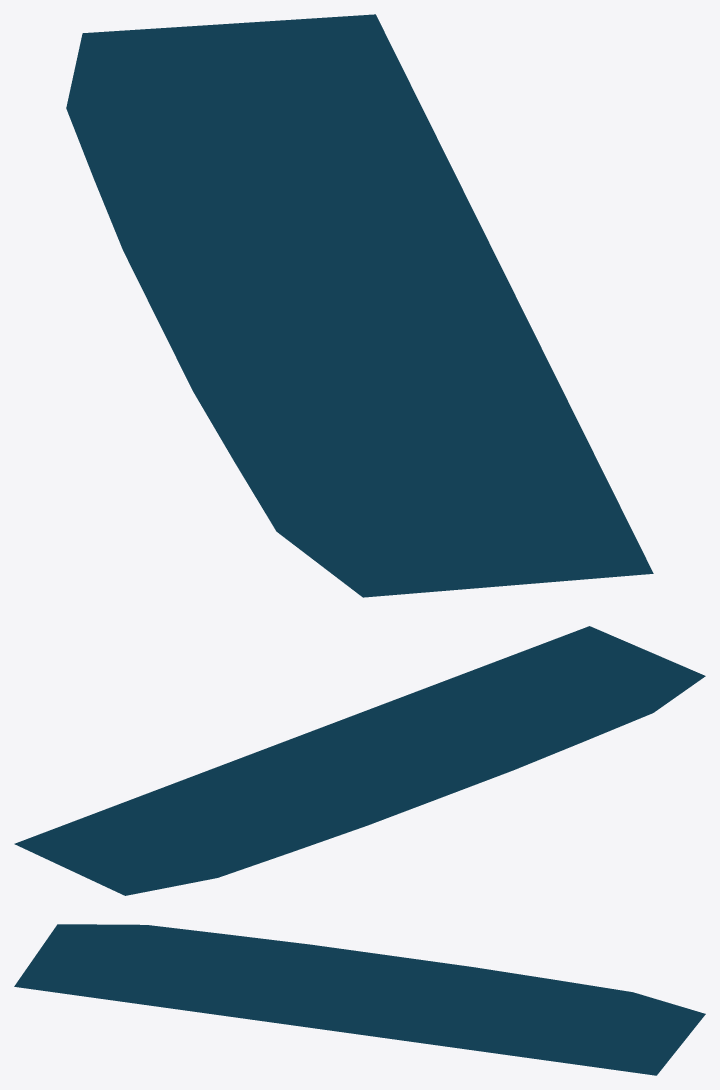
File: Coast Guard floor piece.FBX
The picture shows the model from 3 angles, top to bottom: view 1: azimuth 30°, elevation 25°; view 2: azimuth 150°, elevation 25°; view 3: azimuth 270°, elevation 25°; orthographic projection. The views are drawn at different scales.
Visible parts, largest first — view 1: Ground003; view 2: Ground003; view 3: Ground003.
Boxes of the visible parts, bbox=[...] form: Ground003: bbox=[66, 14, 653, 597]; Ground003: bbox=[14, 626, 705, 895]; Ground003: bbox=[14, 924, 705, 1075].
Size of the model in its own units: 581 by 4.18 by 1139.
